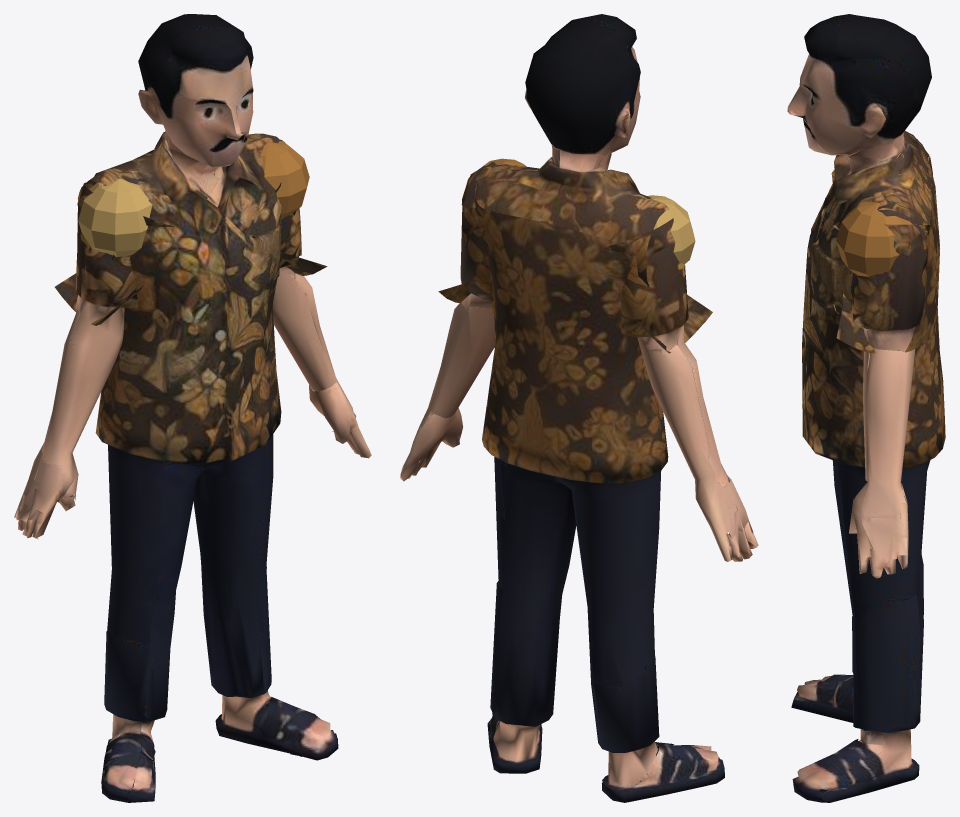
The model's file is npc_bapak.glb.
3 views of the same model, side by side, from view 1: azimuth 30°, elevation 25°; view 2: azimuth 150°, elevation 25°; view 3: azimuth 270°, elevation 25° (orthographic).
Parts seen in each view (by area): view 1: torso, leg_r, leg_l, arm_r, head, arm_l; view 2: torso, leg_r, leg_l, arm_r, head, arm_l; view 3: torso, leg_l, arm_l, head, leg_r, arm_r.
Part boxes in pixels (bbox=[...]): torso: bbox=[77, 133, 309, 435]; leg_r: bbox=[95, 410, 231, 802]; leg_l: bbox=[193, 392, 338, 760]; arm_r: bbox=[14, 182, 327, 539]; head: bbox=[138, 14, 253, 166]; arm_l: bbox=[55, 139, 371, 458]; torso: bbox=[462, 151, 695, 459]; leg_r: bbox=[544, 435, 724, 802]; leg_l: bbox=[482, 419, 576, 773]; arm_r: bbox=[438, 218, 758, 561]; head: bbox=[525, 14, 640, 174]; arm_l: bbox=[400, 170, 712, 481]; torso: bbox=[802, 131, 944, 444]; leg_l: bbox=[792, 407, 945, 802]; arm_l: bbox=[829, 224, 930, 578]; head: bbox=[787, 14, 931, 158]; leg_r: bbox=[791, 401, 945, 722]; arm_r: bbox=[831, 139, 932, 353].
Size of the model in its own units: 0.8145 by 1.68 by 0.332.
1 material, 1 textured.
